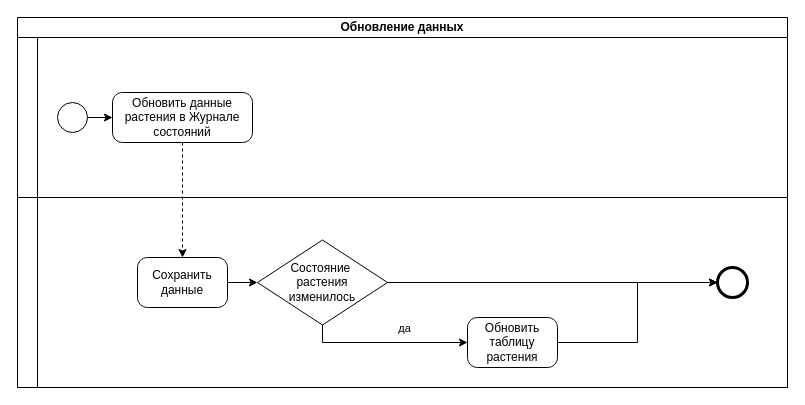
This 805x405 diagram has some shape labels left out. The shapes that lost their labels are listed below. From the top down, each one's box as (x1, y1, x2, y2) in pixels, then its label:
(16, 36, 788, 198): Сотрудник
(16, 196, 788, 388): Система
